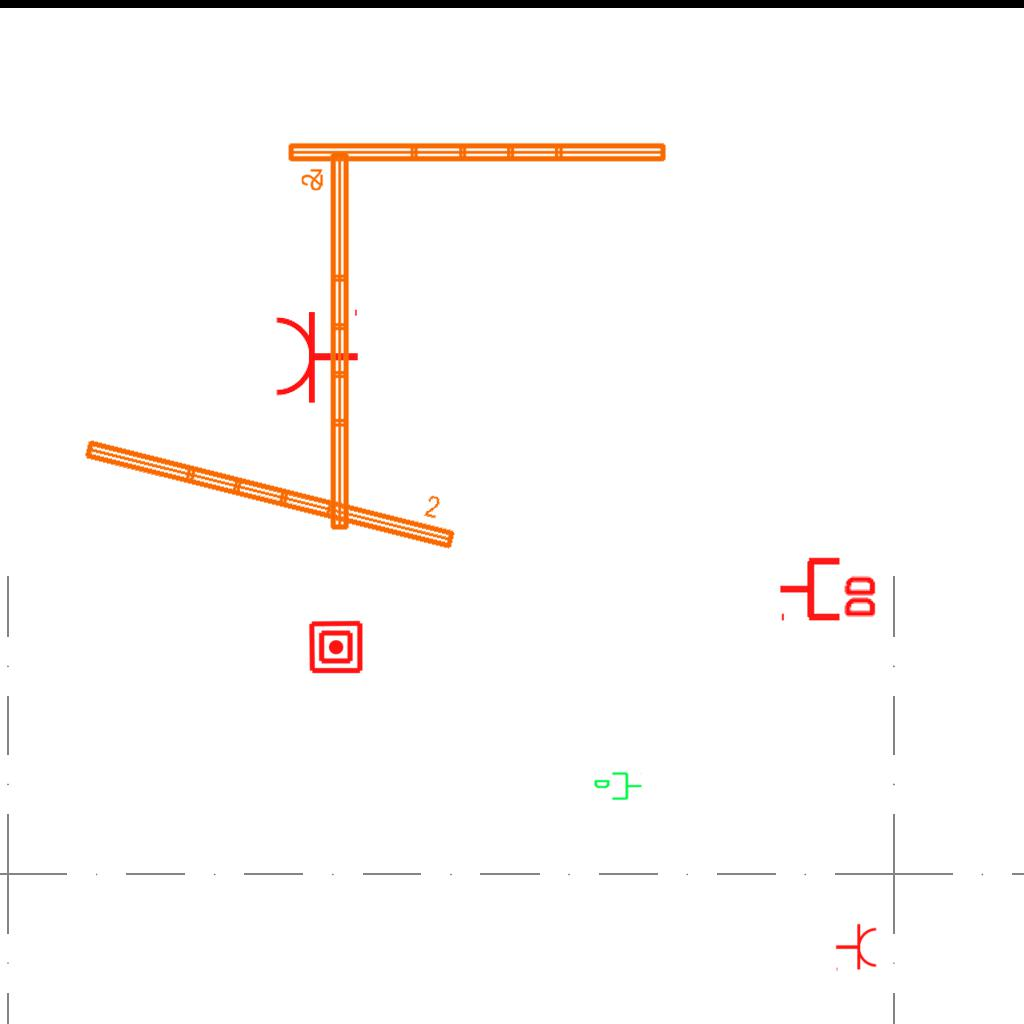Ambulanz_Pendelleuchte_LED: (77, 408, 468, 556), (284, 137, 671, 193), (299, 148, 355, 535)
Datenanschluss_einfach: (593, 770, 643, 804)
Datenanschluss_zweifach: (777, 553, 880, 622)
NAM-Nichtautomatischer_Melder: (308, 619, 364, 675)
Schukosteckdose_einfach: (273, 305, 360, 405), (835, 923, 878, 973)
